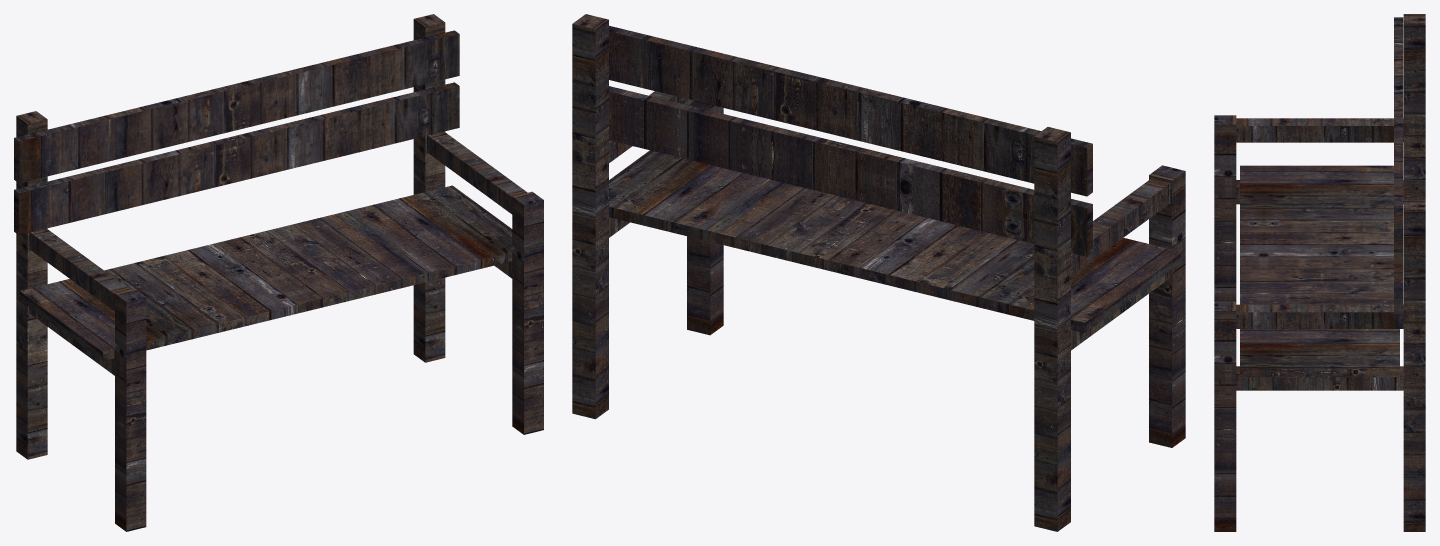
The model's file is Bench.glb.
3 renders of one model, left to right at view 1: azimuth 30°, elevation 25°; view 2: azimuth 150°, elevation 25°; view 3: azimuth 270°, elevation 25°, orthographic. The views are drawn at different scales.
Parts seen in each view (by area): view 1: Bench; view 2: Bench; view 3: Bench.
Part boxes in pixels (left/top/right/bottom): Bench: left=14, top=14, right=543, bottom=531; Bench: left=572, top=14, right=1185, bottom=531; Bench: left=1214, top=14, right=1425, bottom=531.
Bounding box in the file's own units: 1.53 × 1.11 × 0.6612.
1 material, 1 textured.
